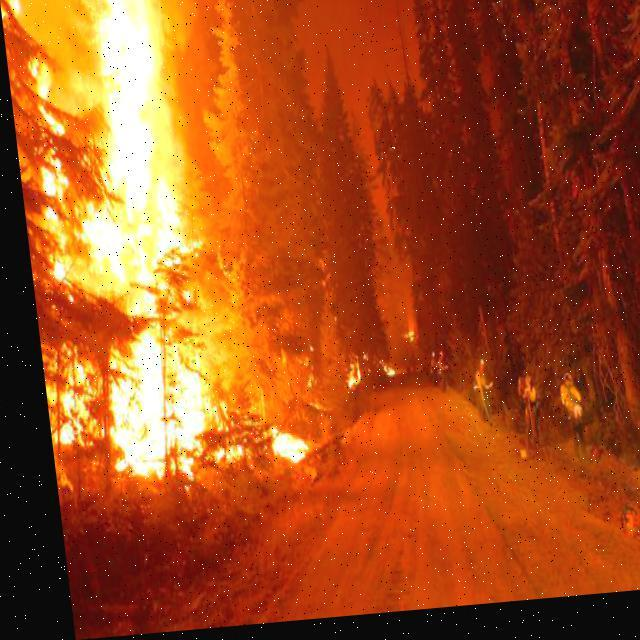Fire: (0, 0, 317, 495)
